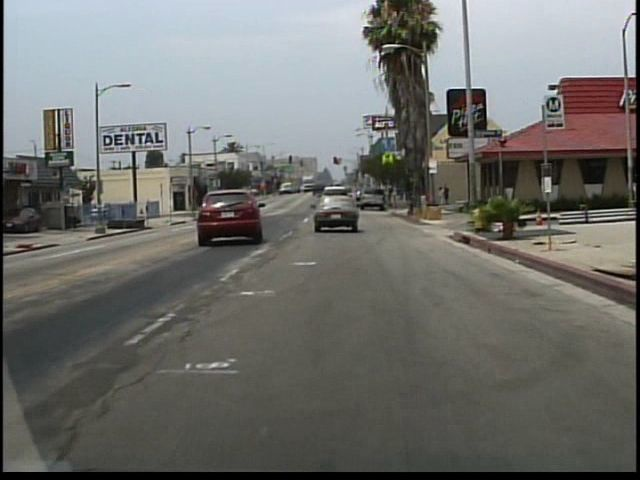person: (443, 183, 451, 206), (438, 184, 445, 207)
